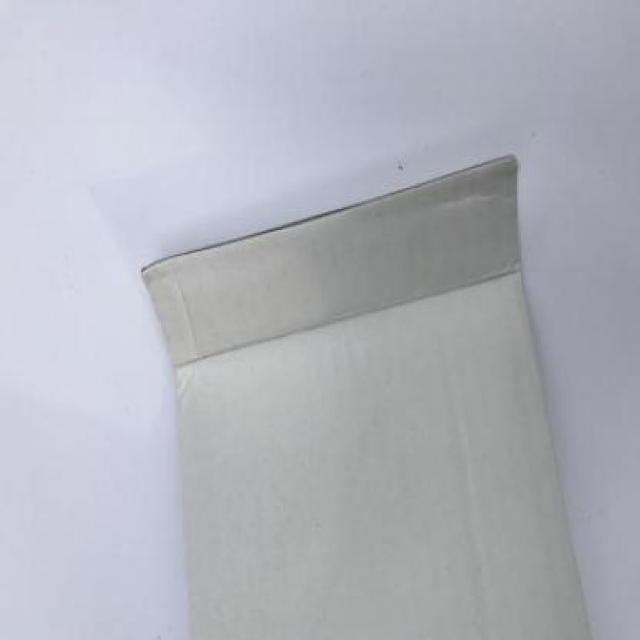box: (142, 144, 609, 640)
